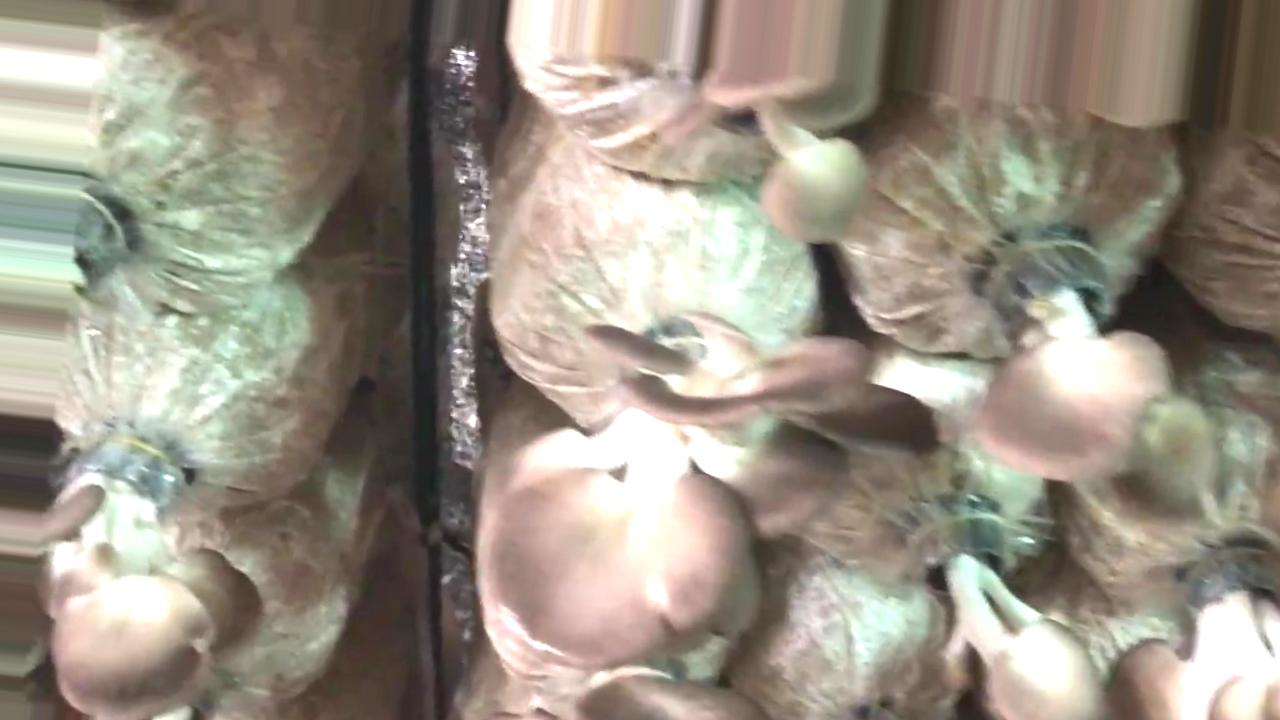nam: (477, 318, 875, 675), (53, 441, 266, 720), (970, 241, 1178, 481), (913, 496, 1106, 720), (1103, 530, 1280, 719), (720, 80, 871, 237)
